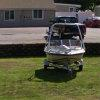Boat: (46, 14, 94, 74)
